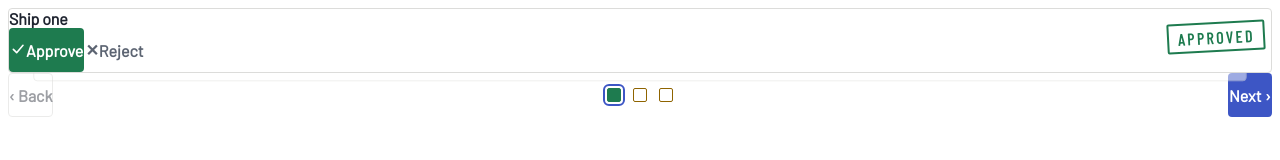
Scenario: FocusDeck auto-advance › does not re-arm when re-entering an already-decided approval
Click the 2nd button with class "focus-dot". click: (640,95)
box: top-left (627, 82), bottom-right (653, 108)
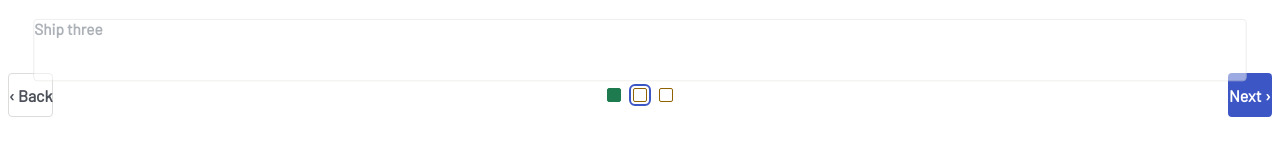
Click the 1st button with class "focus-dot". click: (614,95)
box: top-left (601, 82), bottom-right (627, 108)
Wait 450 ms
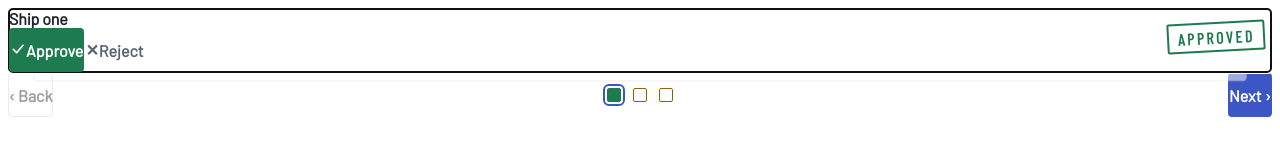
Expected: the heading with class "focus-question" reads "Ship one", top-left (9, 9), bottom-right (68, 28)
